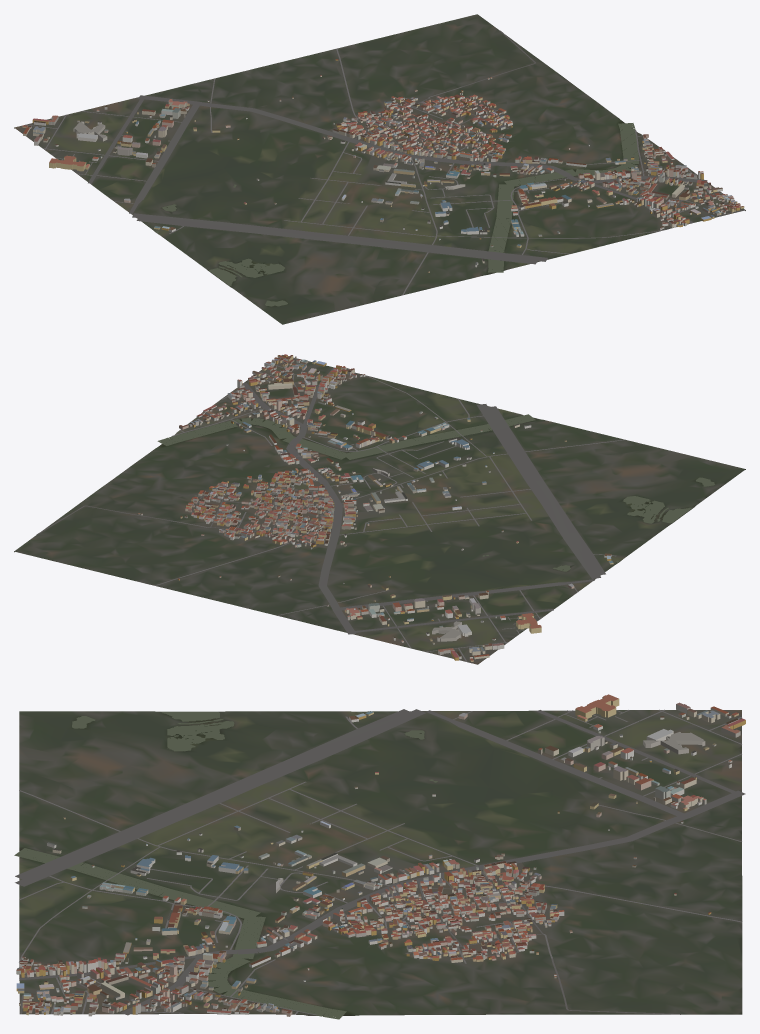
The picture shows the model from 3 angles, top to bottom: view 1: azimuth 30°, elevation 25°; view 2: azimuth 150°, elevation 25°; view 3: azimuth 270°, elevation 25°; orthographic projection. The views are drawn at different scales.
Visible parts, largest first — view 1: ground, buildings, roads, water; view 2: ground, buildings, roads, water; view 3: ground, buildings, roads, water.
Boxes of the visible parts, x1,y1,x2,y2 form: ground: (14,14,745,324); buildings: (22,59,744,272); roads: (25,30,744,295); water: (155,123,638,306); ground: (14,355,745,664); buildings: (138,354,613,661); roads: (36,355,625,661); water: (157,414,714,571); ground: (19,710,742,1015); buildings: (16,694,745,1016); roads: (15,709,745,1015); water: (14,711,437,1019).
Bounding box in the file's own units: 1461 × 34.9 × 1420.
